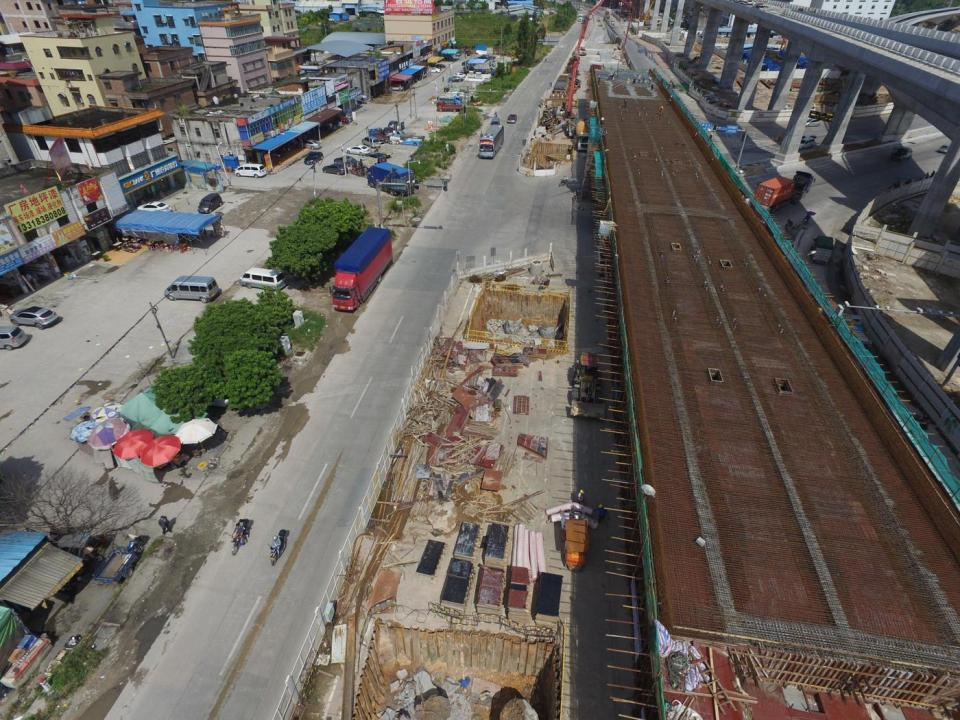bus: (479, 125, 503, 159)
car: (9, 306, 55, 328), (0, 327, 26, 350), (138, 201, 169, 214), (334, 154, 360, 167), (346, 143, 370, 155), (322, 164, 347, 175), (304, 151, 324, 164), (299, 139, 322, 150), (369, 152, 387, 164), (937, 144, 951, 154), (388, 120, 398, 132), (426, 67, 441, 74), (449, 75, 462, 83), (390, 84, 402, 92), (507, 114, 517, 123), (477, 55, 488, 62), (452, 73, 466, 78), (484, 54, 495, 60)
truck: (333, 228, 390, 312), (752, 172, 815, 220), (95, 534, 143, 585), (367, 162, 415, 196), (562, 519, 588, 571), (841, 313, 871, 350), (811, 235, 833, 265), (793, 172, 814, 196), (389, 134, 424, 146), (367, 128, 389, 143), (436, 100, 462, 112), (892, 147, 914, 161), (437, 95, 461, 107), (383, 128, 404, 140), (359, 155, 378, 167), (374, 145, 391, 157), (576, 5, 584, 10), (578, 14, 582, 21), (606, 11, 610, 18)
van: (166, 276, 220, 304), (240, 266, 287, 292), (198, 193, 224, 214), (235, 163, 266, 178), (362, 136, 380, 148), (796, 137, 815, 148), (804, 118, 822, 127), (491, 117, 500, 128)
